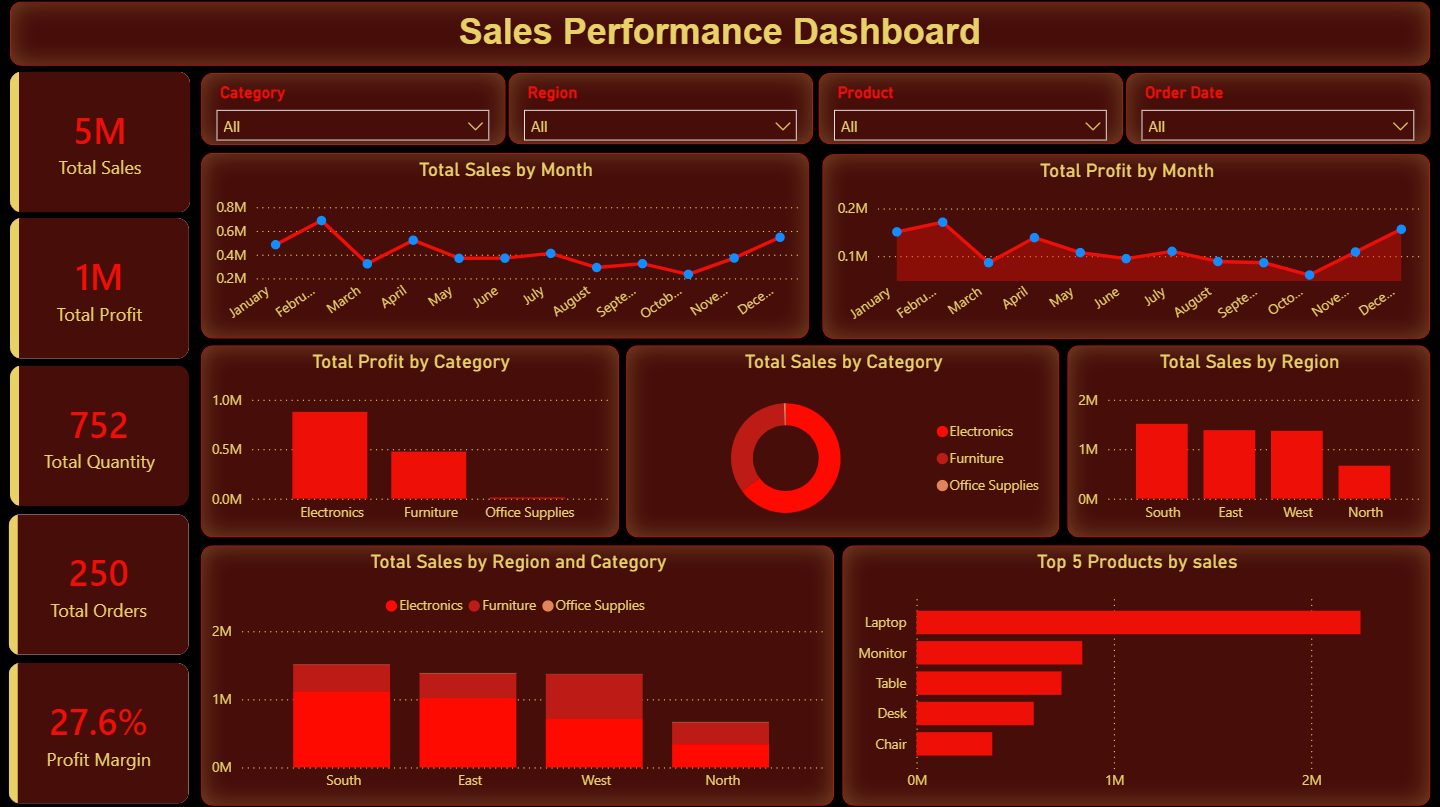

The page's visual inventory and layout, read from the dashboard file:
{"tool":"powerbi","page":{"name":"Page 1","canvas":[1280,720],"ordinal":0},"visuals":[{"type":"cardVisual","title":"Total Profit","fields":{"Data":["Monthly Summary.Total Profit"]},"box":[8.4,196.1,159.3,125.5],"z":0},{"type":"cardVisual","title":"Total Quantity","fields":{"Data":["Monthly Summary.Total Quantity"]},"box":[8.4,326.4,159.3,125.5],"z":1000},{"type":"cardVisual","title":"Total Orders","fields":{"Data":["Monthly Summary.Total Orders"]},"box":[7.2,459.1,160.5,125.5],"z":2000},{"type":"cardVisual","title":"Profit Margin","fields":{"Data":["Monthly Summary.Profit Margin"]},"box":[7.2,590.6,160.5,125.5],"z":3000},{"type":"lineChart","fields":{"Category":["Sales_data.Order_Date.Variation.Date Hierarchy.Month"],"Y":["Sales_data.Total Sales"]},"box":[178.8,137.5,540,165],"z":4000},{"type":"areaChart","fields":{"Category":["Sales_data.Order_Date.Variation.Date Hierarchy.Month"],"Y":["Monthly Summary.Total Profit"]},"box":[731.2,138.8,540,163.8],"z":5000},{"type":"clusteredColumnChart","fields":{"Category":["Sales_data.Region"],"Y":["Sales_data.Total Sales"]},"box":[948.8,309,322.1,170.1],"z":6000},{"type":"donutChart","fields":{"Category":["Sales_data.Category"],"Y":["Sales_data.Total Sales"]},"box":[556.2,309,385,170],"z":7000},{"type":"clusteredBarChart","title":"Top 5 Products by sales","fields":{"Category":["Sales_data.Product"],"Y":["Sales_data.Total Sales"]},"box":[748.8,486.2,522.5,231.2],"z":8000},{"type":"clusteredColumnChart","fields":{"Category":["Sales_data.Category"],"Y":["Monthly Summary.Total Profit"]},"box":[178.8,309,371.6,170.1],"z":9000},{"type":"slicer","fields":{"Values":["Sales_data.Order_Date"]},"box":[1001.2,67.1,270,63.3],"z":10000},{"type":"slicer","fields":{"Values":["Sales_data.Region"]},"box":[452.4,67.1,270,63.3],"z":11000},{"type":"slicer","fields":{"Values":["Sales_data.Category"]},"box":[178.9,66.4,270,63.8],"z":12000},{"type":"slicer","fields":{"Values":["Sales_data.Product"]},"box":[727.9,67.1,270,63.3],"z":13000},{"type":"columnChart","fields":{"Category":["Sales_data.Region"],"Y":["Sales_data.Total Sales"],"Series":["Sales_data.Category"]},"box":[178.8,486.2,562.5,231.2],"z":14000},{"type":"cardVisual","title":"Total Quantity","fields":{"Data":["Sales_data.Total Sales"]},"box":[8.8,65.5,160.5,125.5],"z":15000},{"type":"textbox","box":[8.9,3.3,1262.2,56.7],"z":16000}]}

Visuals, with their boxes in screenshot pixels (x1, y1, x2, y2), scaled from the page's 1280x720 canvas onto the 1440x807 screenshot:
"Total Profit" cardVisual: <bbox>9, 220, 189, 360</bbox>
"Total Quantity" cardVisual: <bbox>9, 366, 189, 507</bbox>
"Total Orders" cardVisual: <bbox>8, 515, 189, 655</bbox>
"Profit Margin" cardVisual: <bbox>8, 662, 189, 803</bbox>
lineChart - Sales_data.Order_Date.Variation.Date Hierarchy.Month x Sales_data.Total Sales: <bbox>201, 154, 809, 339</bbox>
areaChart - Sales_data.Order_Date.Variation.Date Hierarchy.Month x Monthly Summary.Total Profit: <bbox>823, 156, 1430, 339</bbox>
clusteredColumnChart - Sales_data.Region x Sales_data.Total Sales: <bbox>1067, 346, 1430, 537</bbox>
donutChart - Sales_data.Category x Sales_data.Total Sales: <bbox>626, 346, 1059, 537</bbox>
"Top 5 Products by sales" clusteredBarChart: <bbox>842, 545, 1430, 804</bbox>
clusteredColumnChart - Sales_data.Category x Monthly Summary.Total Profit: <bbox>201, 346, 619, 537</bbox>
slicer - Sales_data.Order_Date: <bbox>1126, 75, 1430, 146</bbox>
slicer - Sales_data.Region: <bbox>509, 75, 813, 146</bbox>
slicer - Sales_data.Category: <bbox>201, 74, 505, 146</bbox>
slicer - Sales_data.Product: <bbox>819, 75, 1123, 146</bbox>
columnChart - Sales_data.Region x Sales_data.Total Sales: <bbox>201, 545, 834, 804</bbox>
"Total Quantity" cardVisual: <bbox>10, 73, 190, 214</bbox>
textbox: <bbox>10, 4, 1430, 67</bbox>
